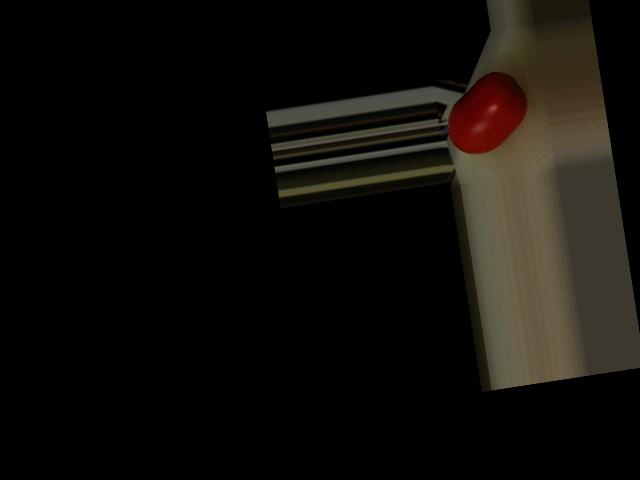tomato: (440, 67, 533, 158)
